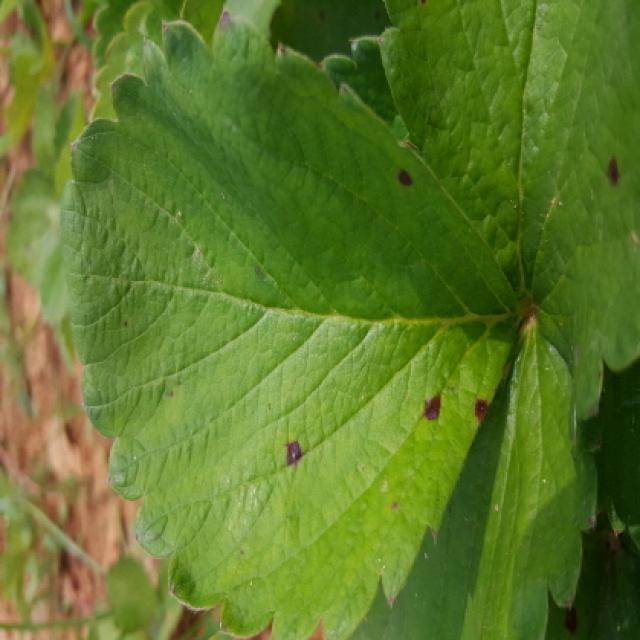Leaf Spot: (60, 8, 524, 638), (378, 0, 638, 421), (271, 0, 392, 65)
